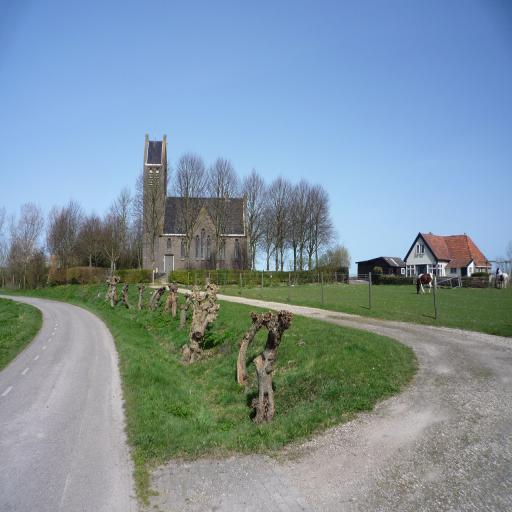Horse: (414, 272, 438, 296), (494, 266, 509, 290)
